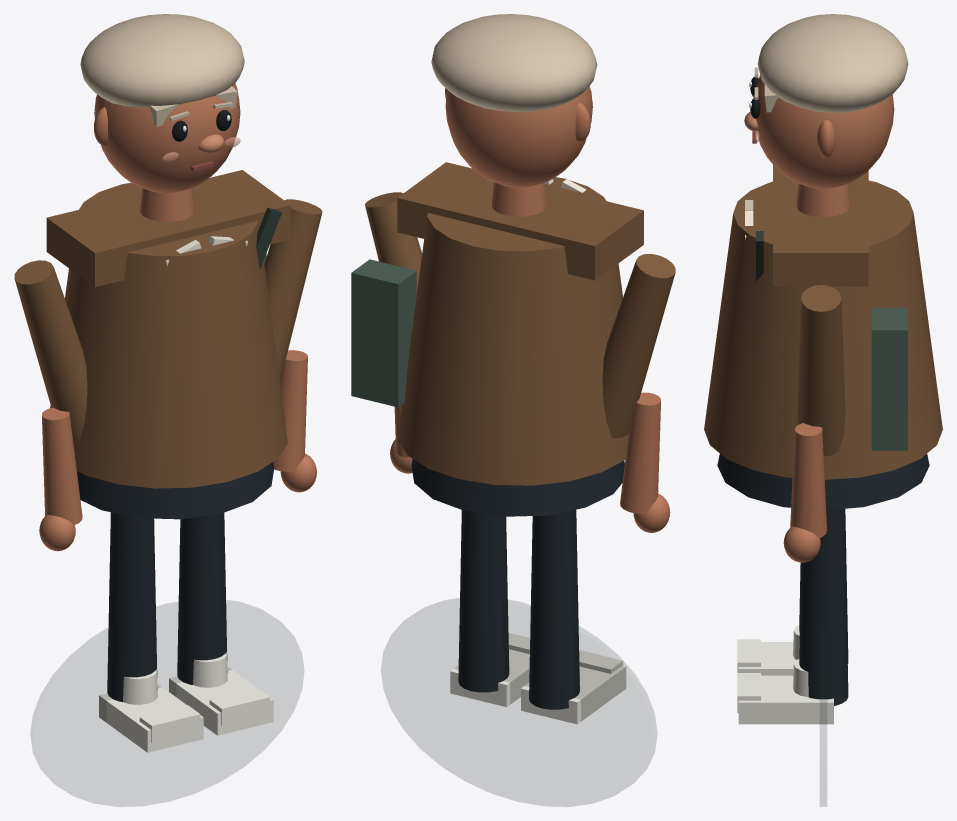
The model's file is customer_10.glb.
The picture shows the model from 3 angles, left to right: view 1: azimuth 30°, elevation 25°; view 2: azimuth 150°, elevation 25°; view 3: azimuth 270°, elevation 25°; orthographic projection. The views are drawn at different scales.
Parts seen in each view (by area): view 1: torso, contact_shadow, hair_cap, shoulder_line, head, leg_-0.075, leg_0.075, upper_arm_-0.235, hip, upper_arm_0.235, forearm_-0.235, shoe_-0.075 (+10 smaller); view 2: torso, contact_shadow, hair_cap, shoulder_line, leg_-0.075, head, leg_0.075, shoulder_bag, upper_arm_-0.235, hip, forearm_-0.235, upper_arm_0.235 (+5 smaller); view 3: torso, hair_cap, head, shoulder_line, leg_0.075, upper_arm_0.235, shoulder_bag, hip, forearm_0.235, shoe_0.075, neck, shoe_-0.075 (+6 smaller).
Boxes of the visible parts, left/top/right/bottom form: torso: left=50, top=183, right=287, bottom=488; contact_shadow: left=31, top=600, right=303, bottom=806; hair_cap: left=80, top=14, right=244, bottom=107; shoulder_line: left=46, top=170, right=290, bottom=287; head: left=94, top=84, right=240, bottom=193; leg_-0.075: left=107, top=512, right=157, bottom=701; leg_0.075: left=177, top=513, right=227, bottom=684; upper_arm_-0.235: left=14, top=260, right=87, bottom=443; hip: left=77, top=462, right=274, bottom=519; upper_arm_0.235: left=264, top=199, right=322, bottom=381; forearm_-0.235: left=42, top=407, right=82, bottom=525; shoe_-0.075: left=99, top=683, right=203, bottom=752; torso: left=397, top=177, right=628, bottom=485; contact_shadow: left=381, top=598, right=656, bottom=806; hair_cap: left=431, top=14, right=597, bottom=111; shoulder_line: left=397, top=162, right=643, bottom=280; leg_-0.075: left=529, top=509, right=579, bottom=709; head: left=445, top=86, right=592, bottom=187; leg_0.075: left=458, top=510, right=509, bottom=692; shoulder_bag: left=351, top=259, right=416, bottom=407; upper_arm_-0.235: left=602, top=254, right=675, bottom=438; hip: left=411, top=459, right=624, bottom=516; forearm_-0.235: left=620, top=392, right=660, bottom=513; upper_arm_0.235: left=365, top=192, right=422, bottom=293; torso: left=704, top=180, right=942, bottom=479; hair_cap: left=757, top=14, right=908, bottom=112; head: left=753, top=75, right=894, bottom=188; shoulder_line: left=773, top=165, right=868, bottom=286; leg_0.075: left=799, top=508, right=848, bottom=705; upper_arm_0.235: left=797, top=285, right=845, bottom=456; shoulder_bag: left=871, top=307, right=907, bottom=450; hip: left=717, top=454, right=929, bottom=510; forearm_0.235: left=790, top=423, right=827, bottom=537; shoe_0.075: left=738, top=675, right=833, bottom=724; neck: left=796, top=184, right=850, bottom=217; shoe_-0.075: left=738, top=642, right=796, bottom=675.
Size of the model in its own units: 0.662 by 1.61 by 0.459.
